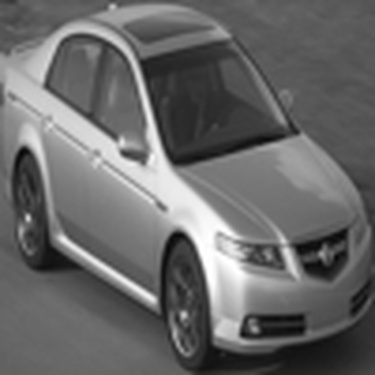car: (5, 1, 372, 350)
